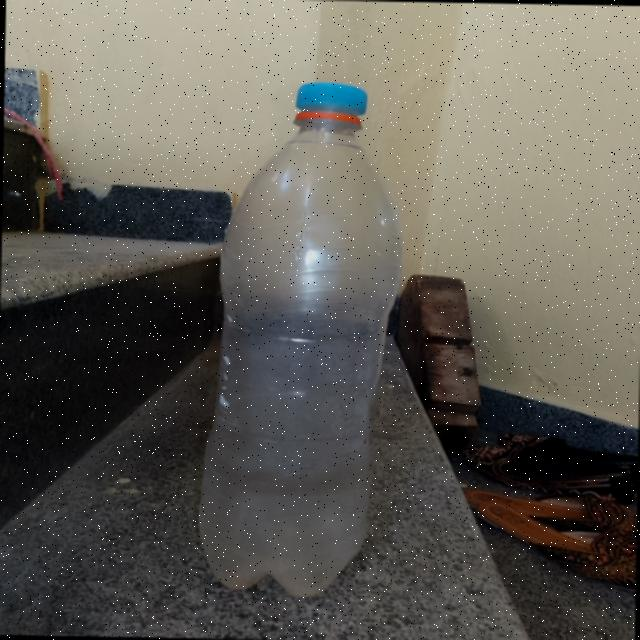bottle: (180, 46, 413, 608)
cap: (282, 74, 376, 122)
